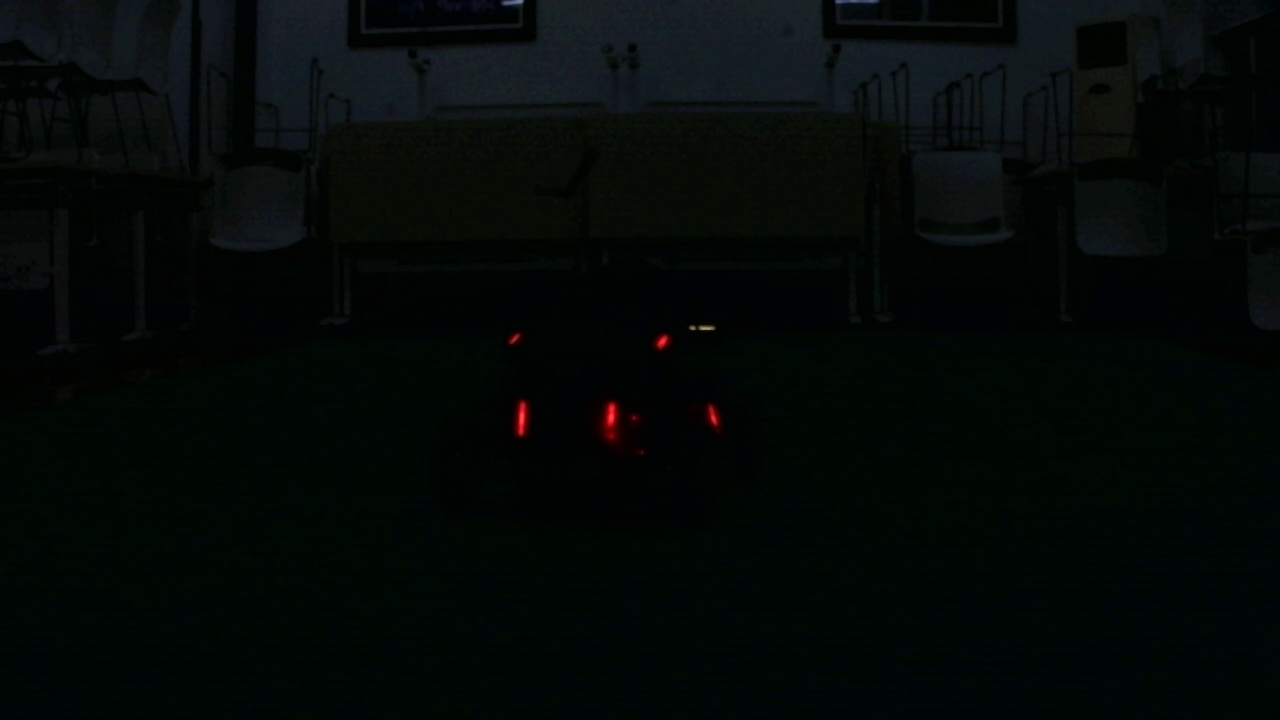lamp: (514, 393, 529, 436), (703, 393, 718, 429), (604, 401, 619, 430)
pair1: (518, 397, 621, 433)
